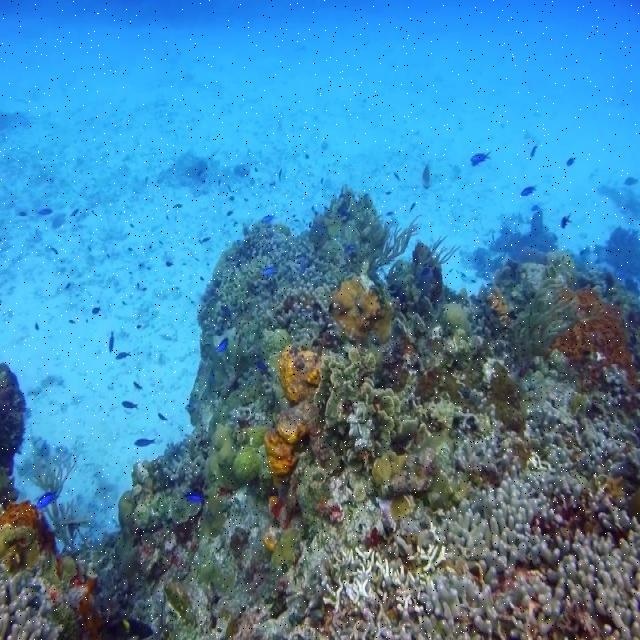fish: (36, 490, 60, 509), (470, 150, 492, 167), (183, 490, 208, 504), (213, 337, 229, 353), (423, 161, 431, 189), (133, 438, 157, 447), (560, 213, 573, 229), (115, 350, 133, 360), (520, 185, 536, 196), (121, 401, 139, 410), (109, 331, 115, 354)
reefs: (117, 189, 639, 639), (0, 499, 156, 639)
